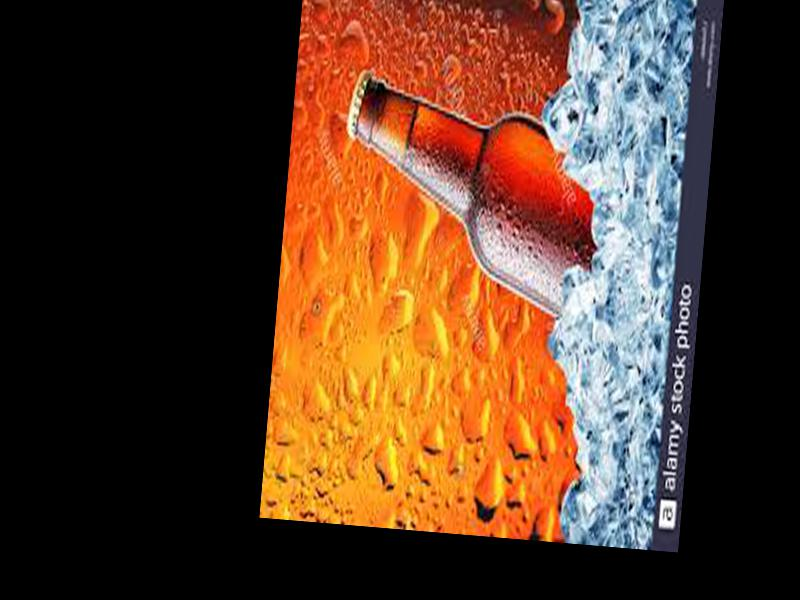Beer: (332, 57, 612, 316)
